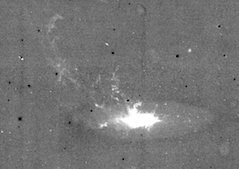Halpha: (31, 7, 129, 113), (86, 117, 128, 138), (128, 99, 169, 114)
